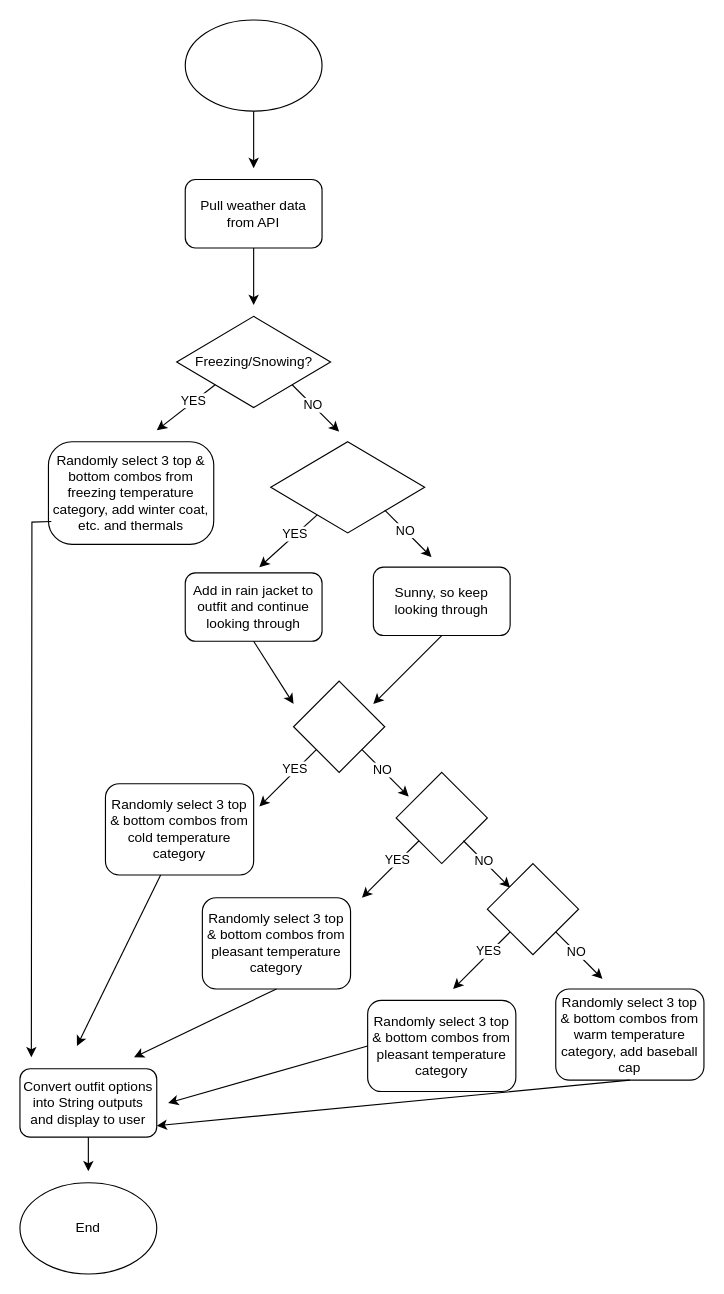
The diagram is 724 pixels wide and 1294 high, and some of its shapes have lost their labels. The shapes that lost their labels are listed below. From the top down, each one's centre as x and y in pixels, then its label:
At point (253, 65): "Start".
At point (347, 487): "Raining/Cloudy?".
At point (338, 726): "< 10 C?".
At point (441, 817): "< 15 C?".
At point (532, 908): "< 20 C?".
